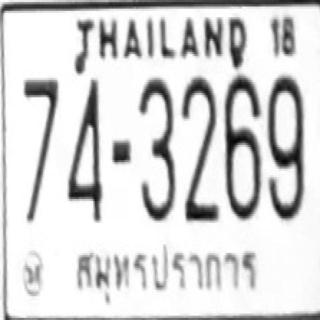N02: (180, 76, 216, 220)
N03: (137, 76, 174, 218)
N04: (65, 76, 102, 218)
N06: (223, 74, 260, 218)
N07: (22, 76, 58, 220), (22, 76, 58, 177)
N09: (267, 74, 304, 218)
P57: (75, 238, 261, 301)
